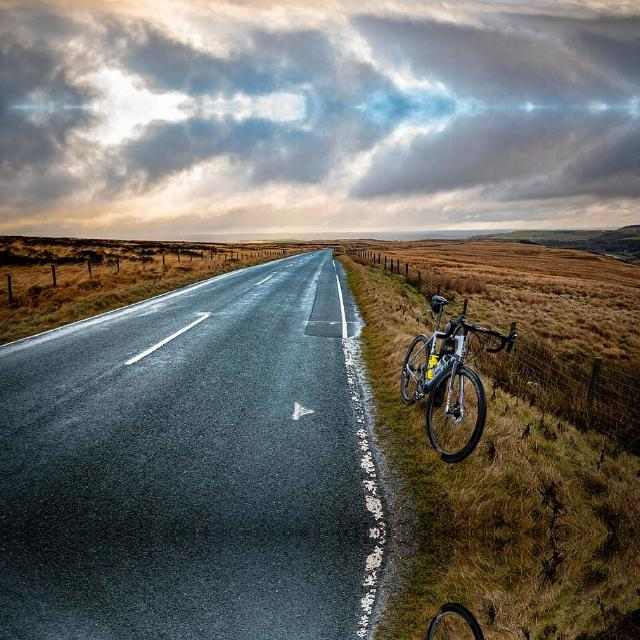obstacle: (370, 268, 534, 466), (369, 600, 534, 640)
